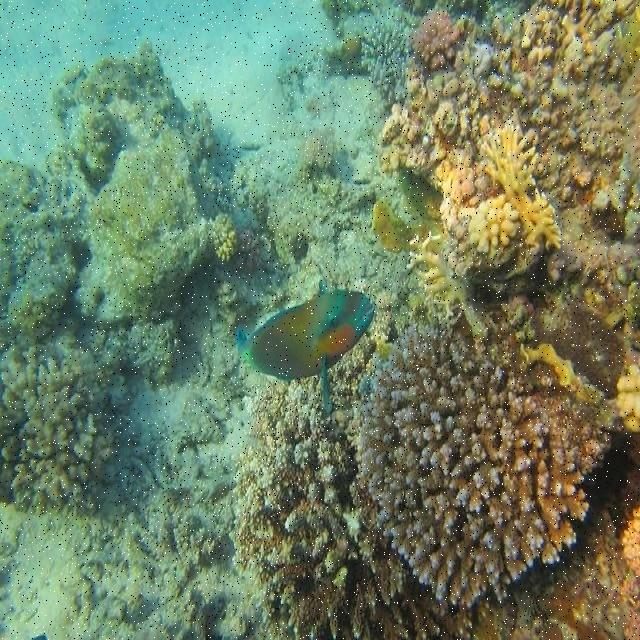fish: (236, 279, 375, 413)
reefs: (230, 292, 475, 639), (360, 307, 612, 608), (0, 347, 115, 521), (468, 120, 564, 257), (361, 8, 461, 105)
